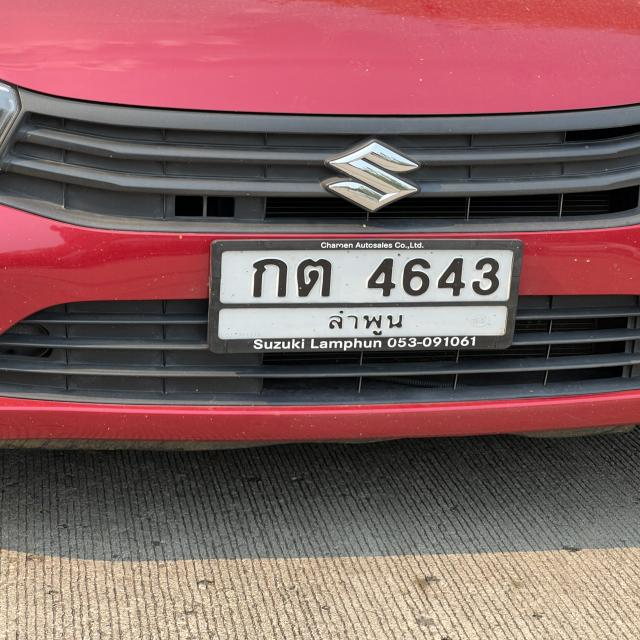license_plate: (205, 236, 518, 353)
